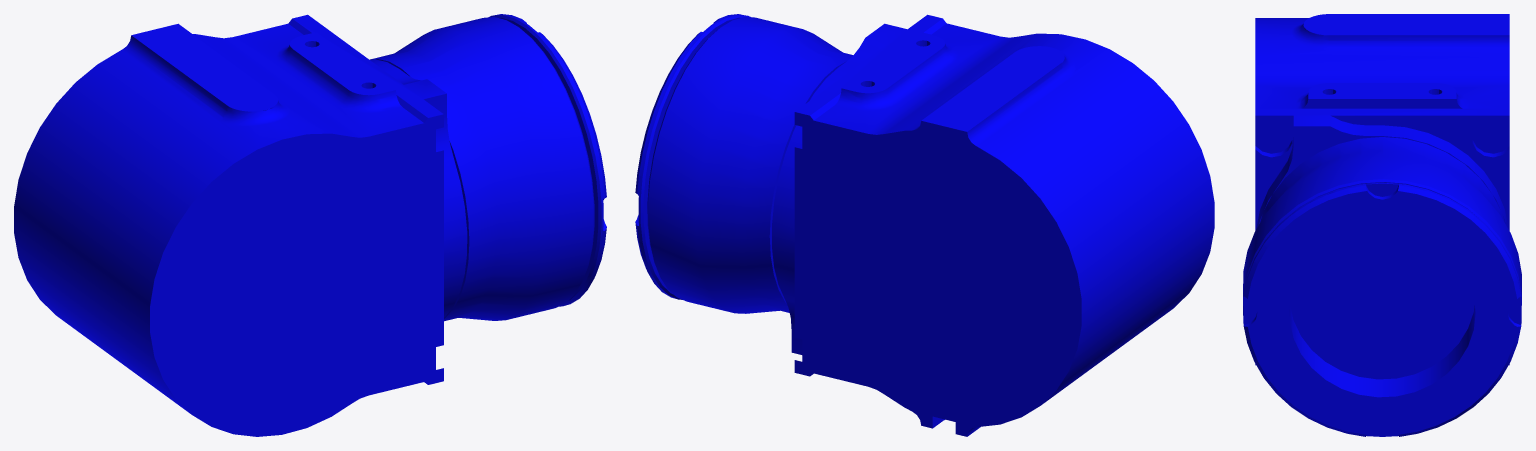
File: MH5L_B_AXIS.dae
The picture shows the model from 3 angles, left to right: view 1: azimuth 30°, elevation 25°; view 2: azimuth 150°, elevation 25°; view 3: azimuth 270°, elevation 25°; orthographic projection. The views are drawn at different scales.
Visible parts, largest first — view 1: node; view 2: node; view 3: node.
Boxes of the visible parts, x1=… form: node: x1=14, y1=14, x2=606, y2=436; node: x1=635, y1=14, x2=1214, y2=436; node: x1=1243, y1=14, x2=1521, y2=436.
Size of the model in its own units: 0.1154 by 0.0658 by 0.076.
